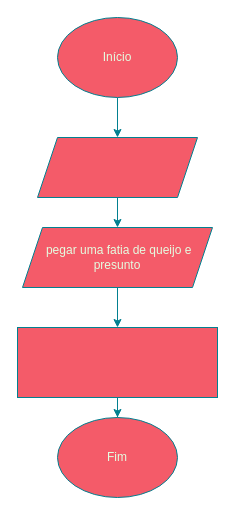
This 235x515 diagram has some shape labels left out. The shapes that lost their labels are listed below. From the top down, each one's centre as x and y in pixels, then its label:
At pixel 117 167: "Pegar duas fatias de pão".
At pixel 117 362: "Montar o lanche e esquentar no micro-ondas por 30 segundos".
